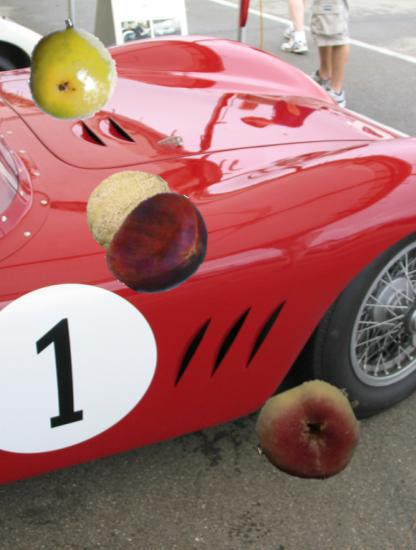Cantaloupe: (85, 165, 176, 256)
Chestnut: (107, 190, 216, 299)
Maracuja: (21, 22, 121, 122)
Peach: (256, 381, 361, 486)
